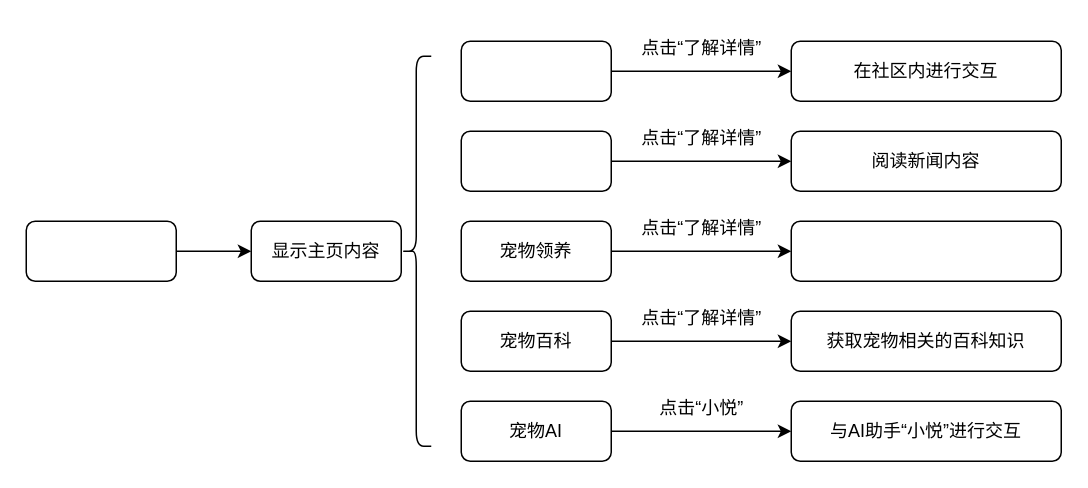
Image size: 1088x488. Some labels were removed from this diagram. Here are the shapes that lost their labels. From the top down, the box of each, then its label:
(460, 40, 611, 101): 宠物社区
(460, 130, 611, 191): 宠物新闻
(25, 220, 176, 281): 访问主页
(790, 220, 1061, 281): 查看宠物领养信息
